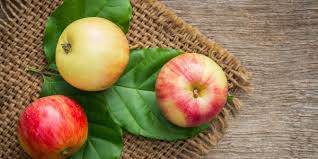apple: (46, 21, 134, 90), (154, 60, 233, 132), (19, 95, 96, 159)
